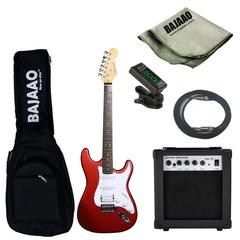ElectricGuitar: (88, 54, 139, 232)
